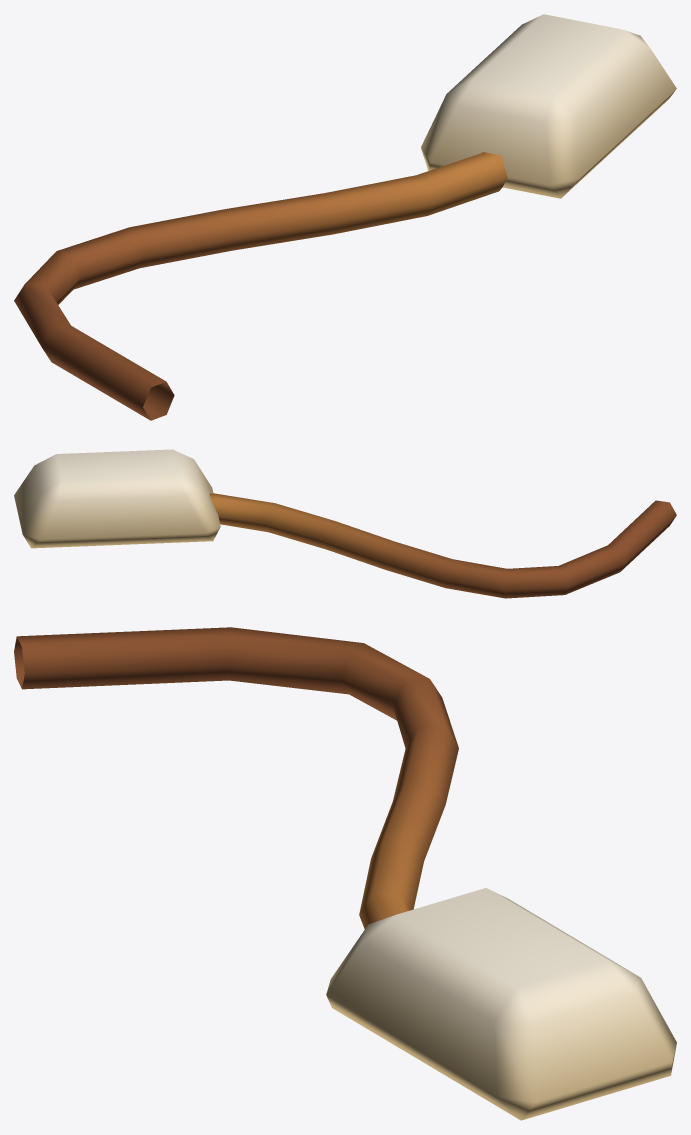
The model's file is Mouse.fbx.
The picture shows the model from 3 angles, top to bottom: view 1: azimuth 30°, elevation 25°; view 2: azimuth 150°, elevation 25°; view 3: azimuth 270°, elevation 25°; orthographic projection. The views are drawn at different scales.
Visible parts, largest first — view 1: Mouse; view 2: Mouse; view 3: Mouse.
Part boxes in pixels (box(x1,y1,x2,y2)): Mouse: box(14, 14, 676, 420); Mouse: box(14, 449, 676, 598); Mouse: box(14, 627, 676, 1120).
Size of the model in its own units: 69.26 by 7.36 by 42.16.
